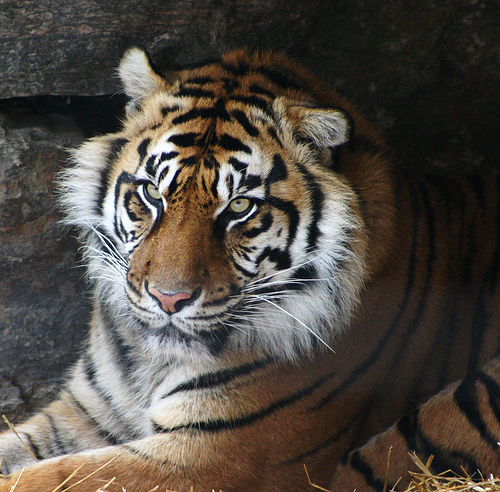Tigre: (69, 30, 478, 444)
